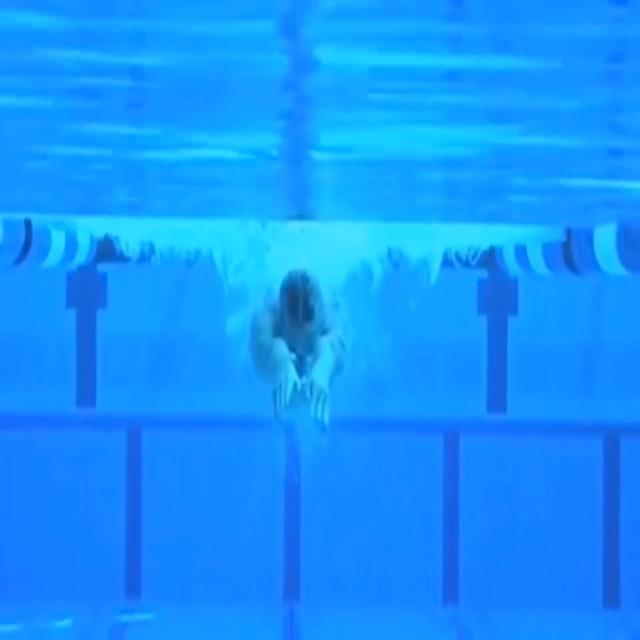Swimming: (248, 267, 352, 438)
